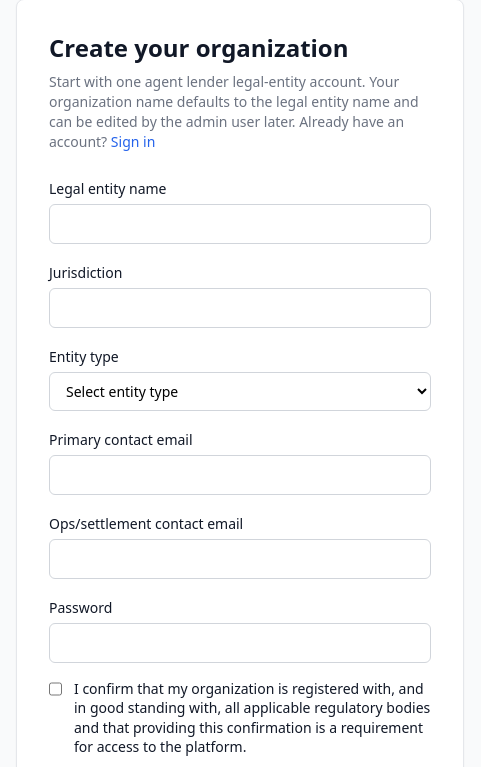
Test: AgentRegisterPage › shows an error when ops/settlement email is empty
This screenshot has width=481, height=767.
Type "Atlas Lending" into the field labelled "Legal entity name" at coordinates (240, 224), box top-left (49, 204), bottom-right (431, 244)
Type "New York, USA" into the field labelled "Jurisdiction" at coordinates (240, 308), box top-left (49, 288), bottom-right (431, 328)
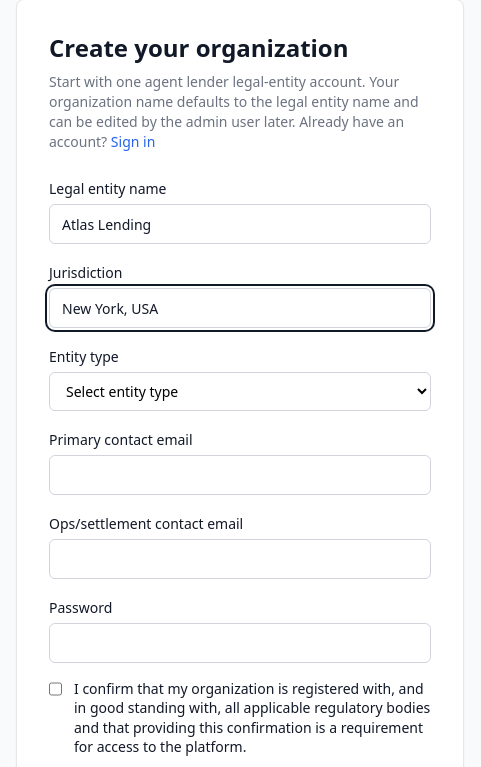
Select "Fund" in the dropdown labelled "Entity type" at coordinates (240, 392), box top-left (49, 372), bottom-right (431, 411)
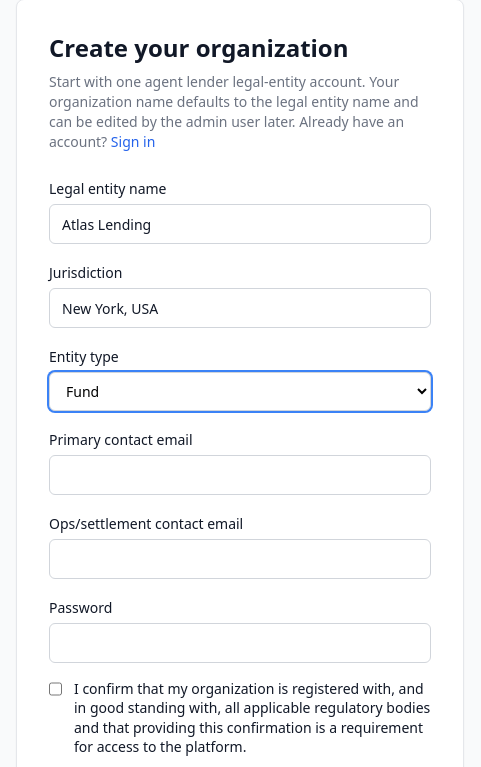
Type "atlas@example.com" into the field labelled "Primary contact email" at coordinates (240, 475), box top-left (49, 455), bottom-right (431, 495)
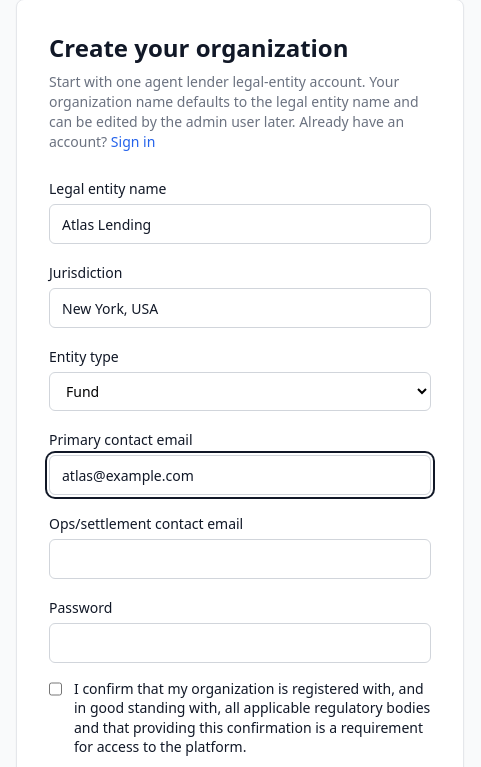
Note: Leave ops email empty
Type "Atlas@Str0ng!2026" into the password field labelled "Password" at coordinates (240, 643), box top-left (49, 623), bottom-right (431, 663)
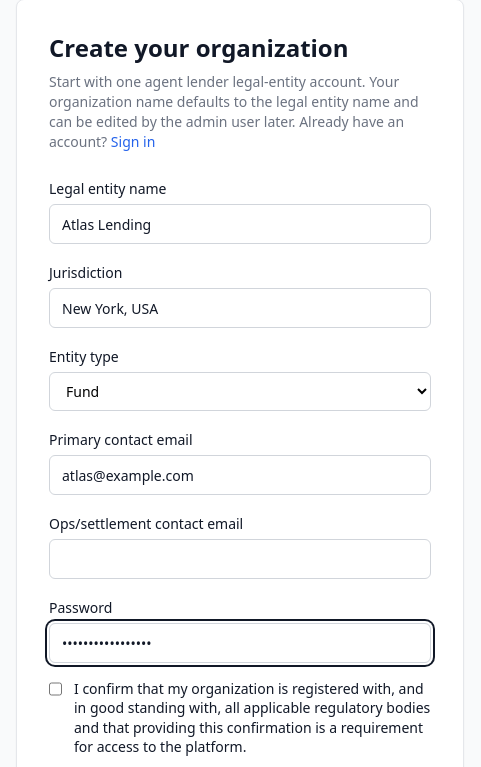
Click the checkbox labelled "I confirm that my organization" at coordinates (56, 689), box top-left (49, 681), bottom-right (62, 697)
(page scrolled)
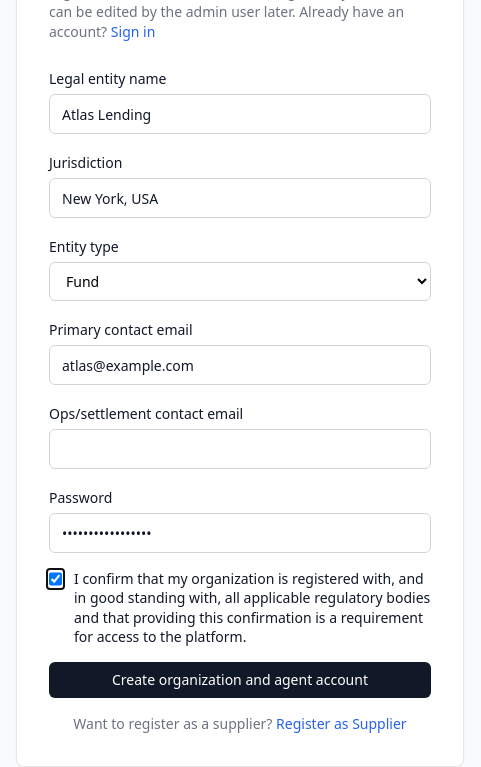
Click the button "Create organization and agent account" at coordinates (240, 680), box top-left (49, 662), bottom-right (431, 698)
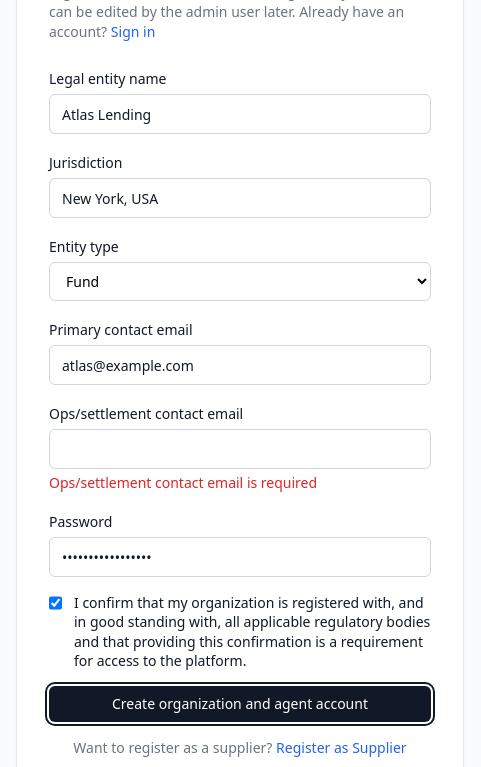
Expected: the text "Ops/settlement contact email is required" is shown, top-left (49, 473), bottom-right (317, 492)
